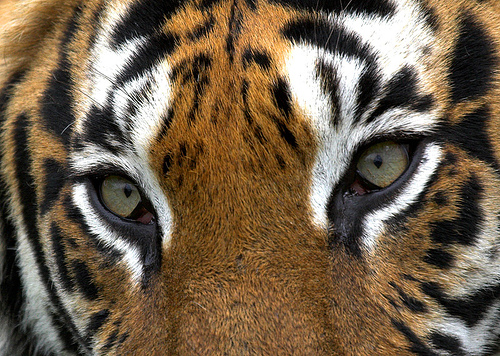Tigre: (39, 1, 476, 340)
